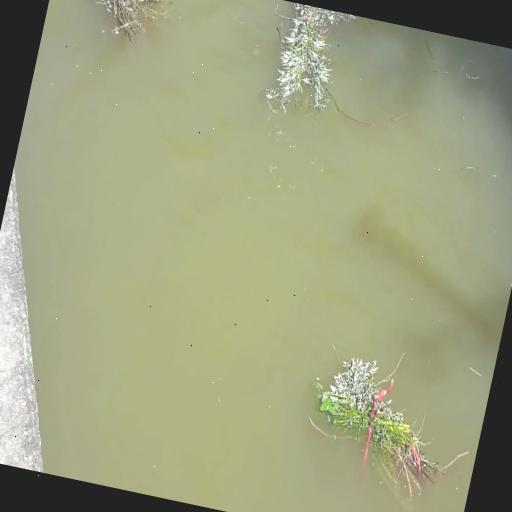twig: (292, 339, 480, 509), (264, 4, 424, 136), (77, 0, 174, 49)
